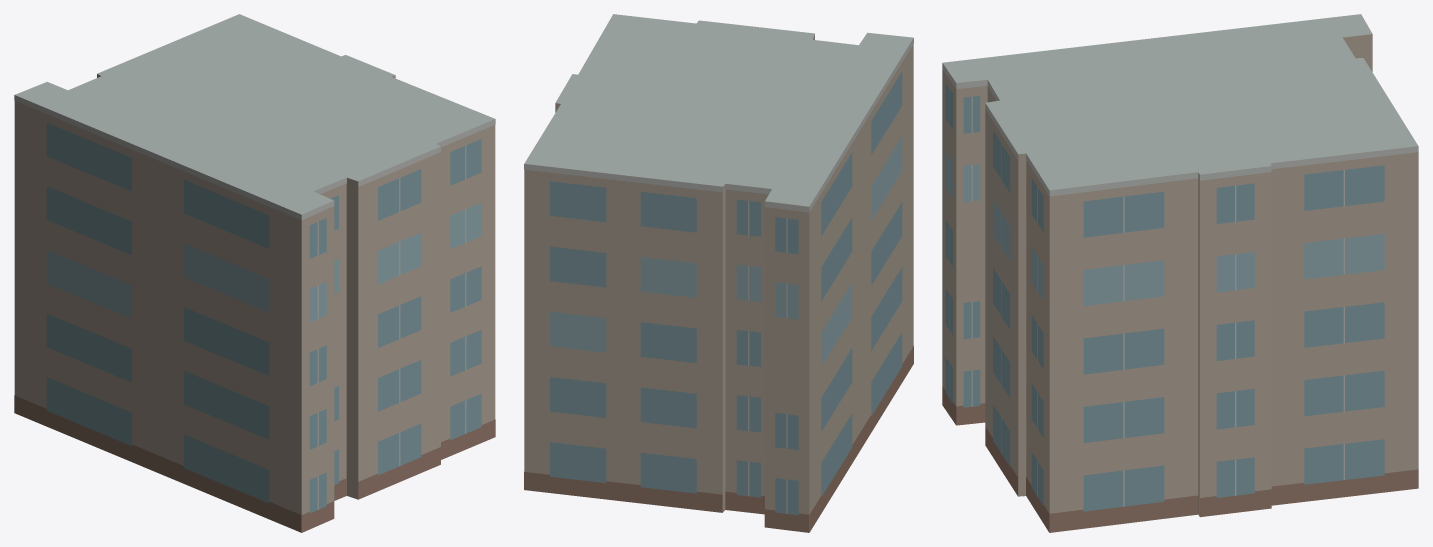
The model's file is survey-upis-32705097.glb.
3 renders of one model, left to right at view 1: azimuth 30°, elevation 25°; view 2: azimuth 150°, elevation 25°; view 3: azimuth 270°, elevation 25°, orthographic. The views are drawn at different scales.
Visible parts, largest first — view 1: survey-upis-32705097.tmp; view 2: survey-upis-32705097.tmp; view 3: survey-upis-32705097.tmp.
Part boxes in pixels (x1,y1,x2,y2): survey-upis-32705097.tmp: [14, 14, 495, 532]; survey-upis-32705097.tmp: [524, 14, 913, 532]; survey-upis-32705097.tmp: [942, 14, 1418, 532].
Size of the model in its own units: 15.27 by 13.8 by 17.4.
